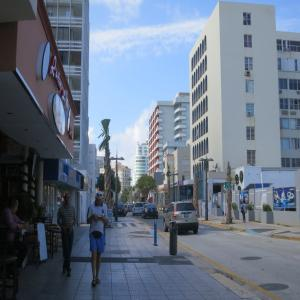Vehicle-registration-plate: (185, 215, 190, 218)
